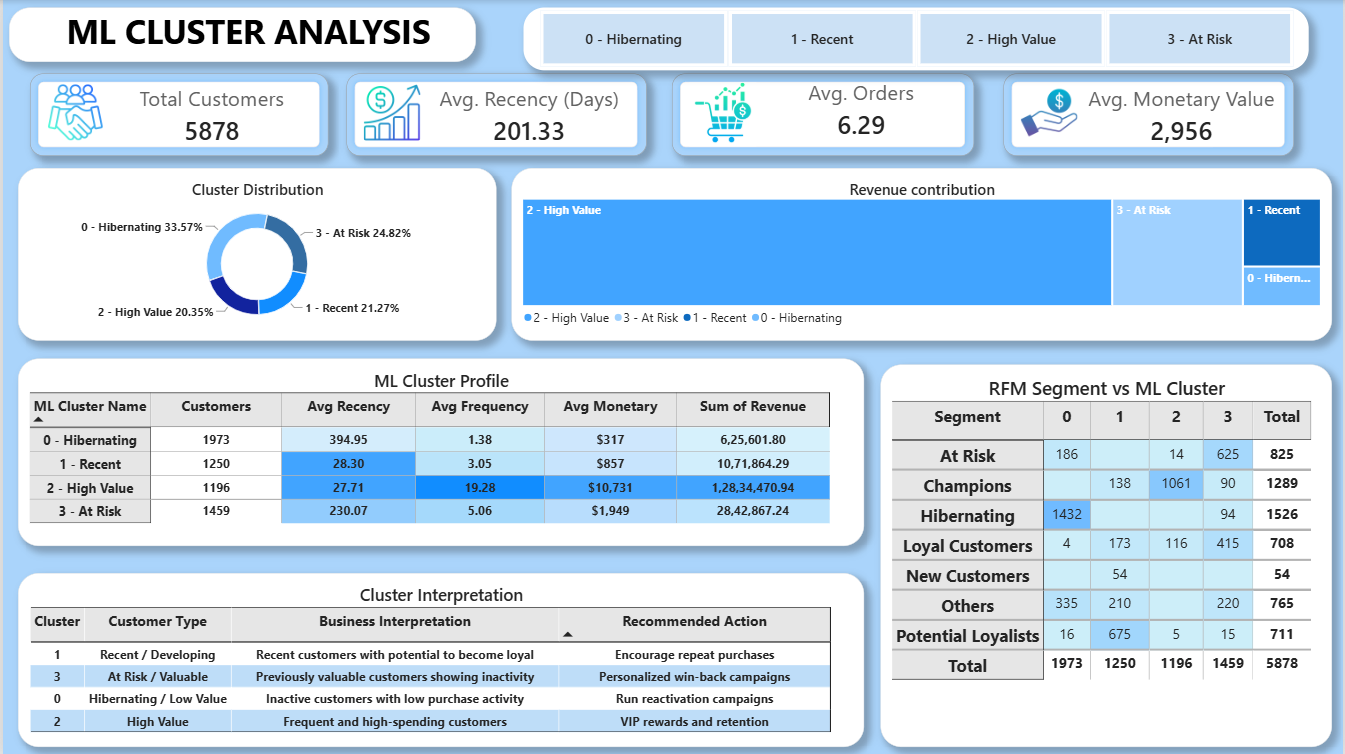

What the dashboard file says about the page in this screenshot:
{"tool":"powerbi","page":{"name":"ML CLUSTER ANALYSIS","canvas":[1920,1080],"ordinal":3},"visuals":[{"type":"textbox","box":[9.5,11.8,668.6,78],"z":0},{"type":"cardVisual","fields":{"Data":["Count(Customer_RFM_ML.Customer ID)"]},"box":[37.8,106.3,427.6,118.1],"z":1000},{"type":"cardVisual","fields":{"Data":["Avg(Customer_RFM_ML.Recency)"]},"box":[491.4,106.3,430,118.1],"z":2000},{"type":"cardVisual","fields":{"Data":["Avg(Customer_RFM_ML.Frequency)"]},"box":[959.2,106.3,432.4,118.1],"z":3000},{"type":"cardVisual","fields":{"Data":["Avg(Customer_RFM_ML.Monetary)"]},"box":[1434.1,106.3,415.8,118.1],"z":4000},{"type":"slicer","fields":{"Values":["Customer_RFM_ML.ML Cluster Name"]},"box":[746.6,11.8,1124.6,89.8],"z":5000},{"type":"donutChart","title":"Cluster Distribution","fields":{"Category":["Customer_RFM_ML.ML Cluster Name"],"Y":["CountNonNull(Customer_RFM_ML.Customer ID)"]},"box":[21.5,240.6,685.4,247.1],"z":6000},{"type":"treemap","title":"Revenue contribution","fields":{"Group":["Customer_RFM_ML.ML Cluster Name"],"Values":["Sum(Customer_RFM_ML.Monetary)"]},"box":[728.4,240.6,1175.3,247.1],"z":7000},{"type":"pivotTable","title":"ML Cluster Profile","fields":{"Rows":["Customer_RFM_ML.ML Cluster Name"],"Values":["CountNonNull(Customer_RFM.Customer ID)","Avg(Customer_RFM.Recency)","Avg(Customer_RFM.Frequency)","Avg(Customer_RFM.Monetary)","Sum(Transactions.Revenue)"]},"box":[21.5,513.5,1211.8,268.6],"z":8000},{"type":"tableEx","title":"Cluster Interpretation","fields":{"Values":["Cluster Interpretation.Cluster","Cluster Interpretation.Customer Type","Cluster Interpretation.Business Interpretation","Cluster Interpretation.Recommended Action"]},"box":[21.5,820.8,1211.8,249.2],"z":9000},{"type":"pivotTable","title":"RFM Segment vs ML Cluster","fields":{"Columns":["Customer_RFM_ML.ML_Cluster"],"Rows":["Customer_RFM.Segment"],"Values":["Count(Customer_RFM_ML.Customer ID)"]},"box":[1256.9,522.1,646.7,547.9],"z":10000}]}

Visuals, with their boxes in screenshot pixels (x1, y1, x2, y2), scaled from the page's 1920x1080 canvas onto the 1345x754 screenshot:
textbox: detection(7, 8, 475, 63)
cardVisual - Count(Customer_RFM_ML.Customer ID): detection(26, 74, 326, 157)
cardVisual - Avg(Customer_RFM_ML.Recency): detection(344, 74, 645, 157)
cardVisual - Avg(Customer_RFM_ML.Frequency): detection(672, 74, 975, 157)
cardVisual - Avg(Customer_RFM_ML.Monetary): detection(1005, 74, 1296, 157)
slicer - Customer_RFM_ML.ML Cluster Name: detection(523, 8, 1311, 71)
"Cluster Distribution" donutChart: detection(15, 168, 495, 340)
"Revenue contribution" treemap: detection(510, 168, 1334, 340)
"ML Cluster Profile" pivotTable: detection(15, 358, 864, 546)
"Cluster Interpretation" tableEx: detection(15, 573, 864, 747)
"RFM Segment vs ML Cluster" pivotTable: detection(880, 365, 1334, 747)
